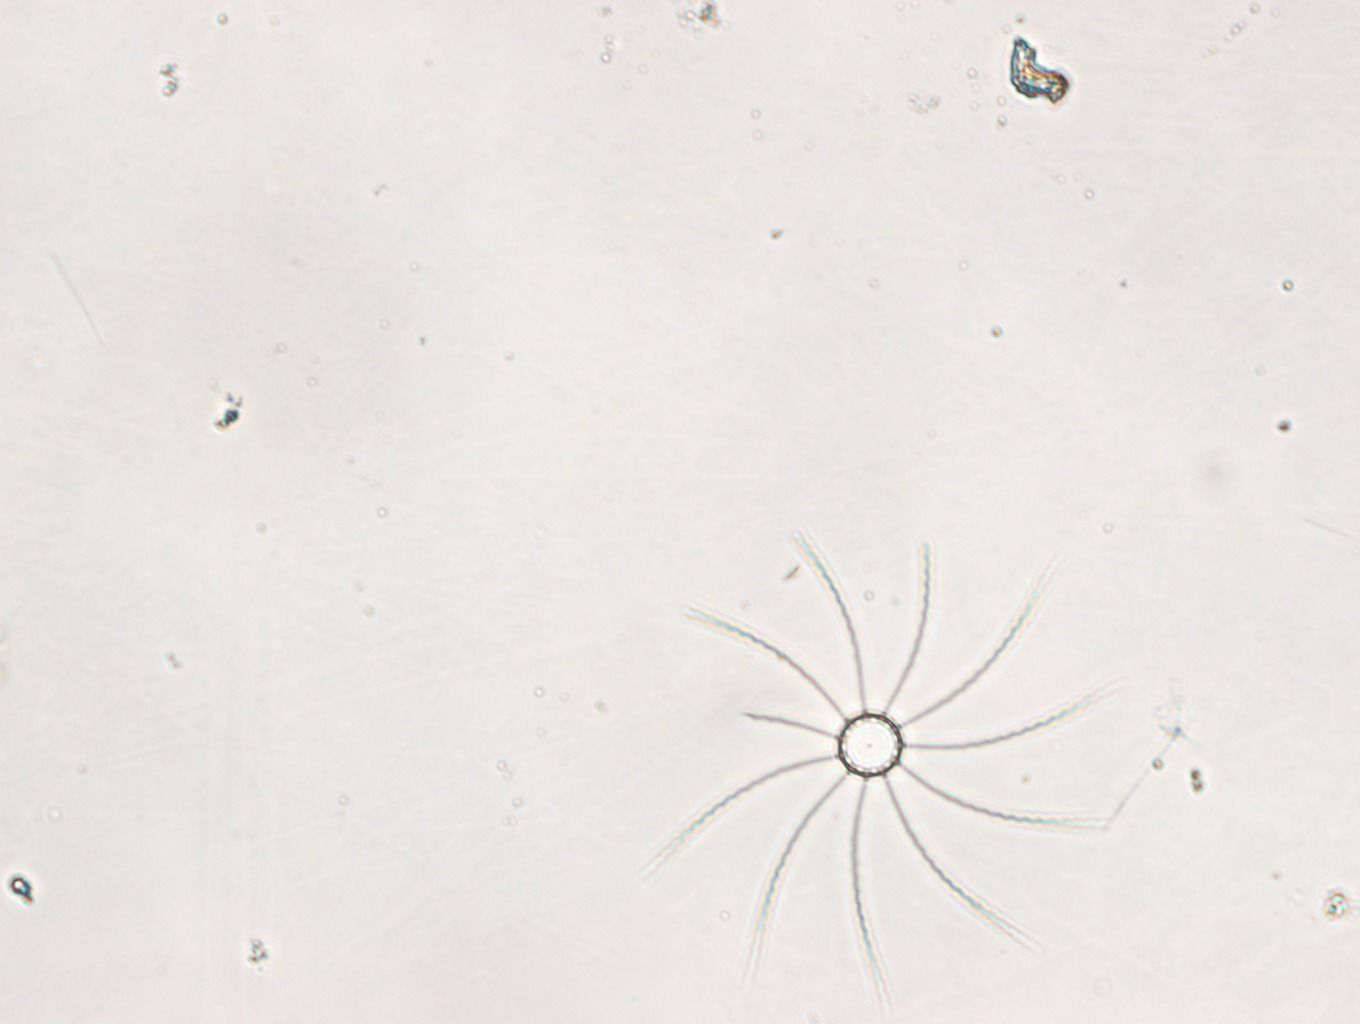bacteriastrum: (646, 518, 1129, 996)
